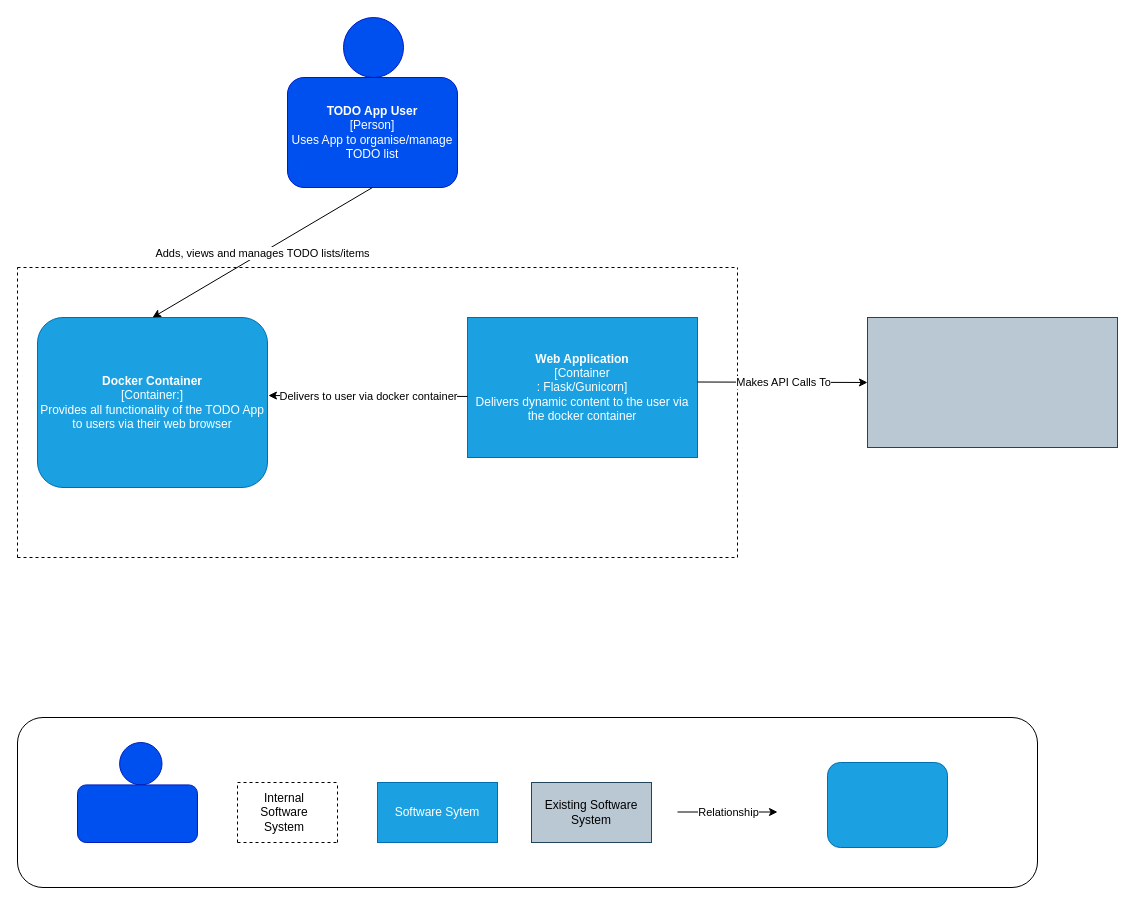
This 1135x905 diagram has some shape labels left out. The centre of each missing label's shape, as x and y in pixels:
Containr, Web Browser: (887,805)
Person: (137,813)
Trello API [Software System] REST API System to store TODO lists: (992,382)
